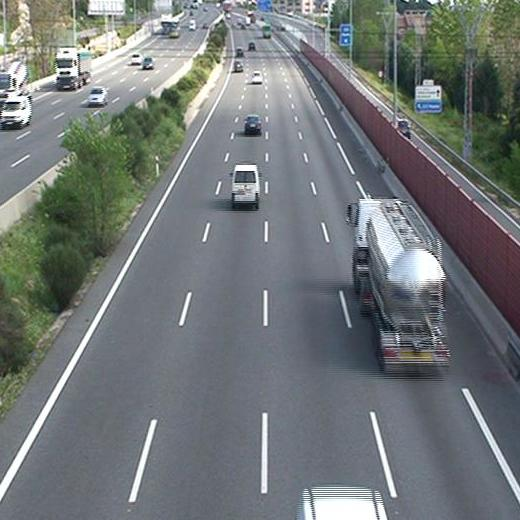car: (243, 115, 263, 135), (251, 71, 262, 85), (232, 61, 243, 74)
tank-truck: (344, 199, 453, 372)
van: (229, 165, 262, 208)
